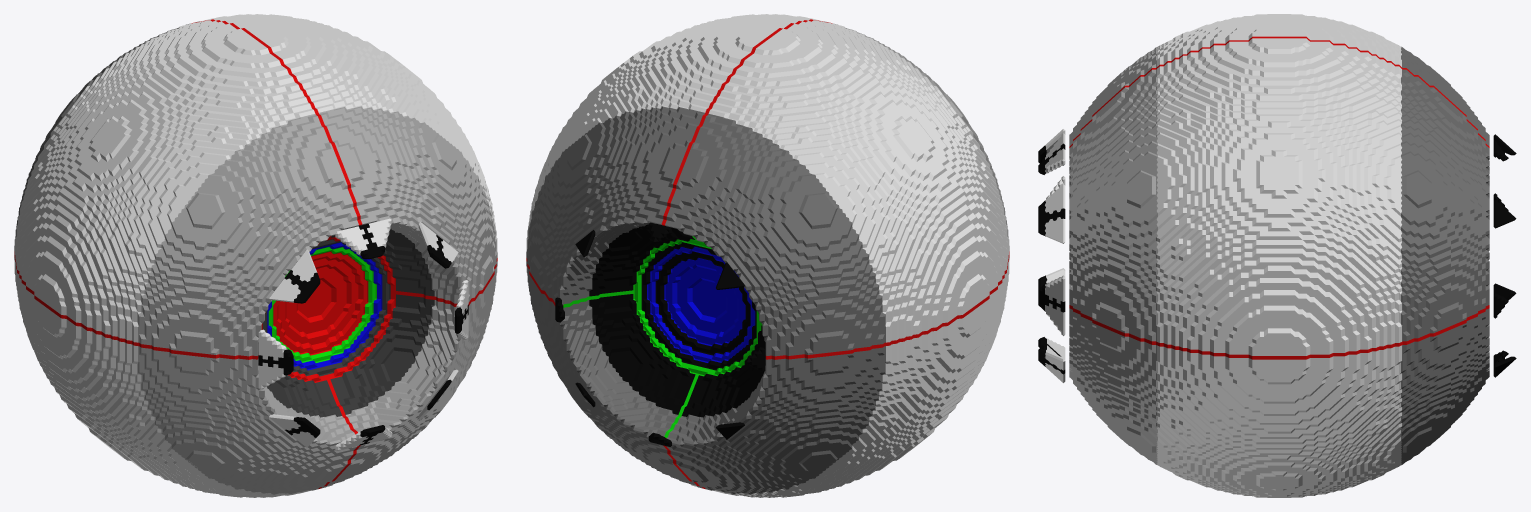
The model's file is ship_auron_alanuin.fbx.
3 renders of one model, left to right at view 1: azimuth 30°, elevation 25°; view 2: azimuth 150°, elevation 25°; view 3: azimuth 270°, elevation 25°, orthographic.
Visible parts, largest first — view 1: ship_auron_alanuin; view 2: ship_auron_alanuin; view 3: ship_auron_alanuin.
Boxes of the visible parts, left/top/right/bottom form: ship_auron_alanuin: left=14, top=14, right=497, bottom=497; ship_auron_alanuin: left=526, top=14, right=1009, bottom=497; ship_auron_alanuin: left=1038, top=14, right=1516, bottom=497.
Size of the model in its own units: 12500 by 12500 by 12400.
